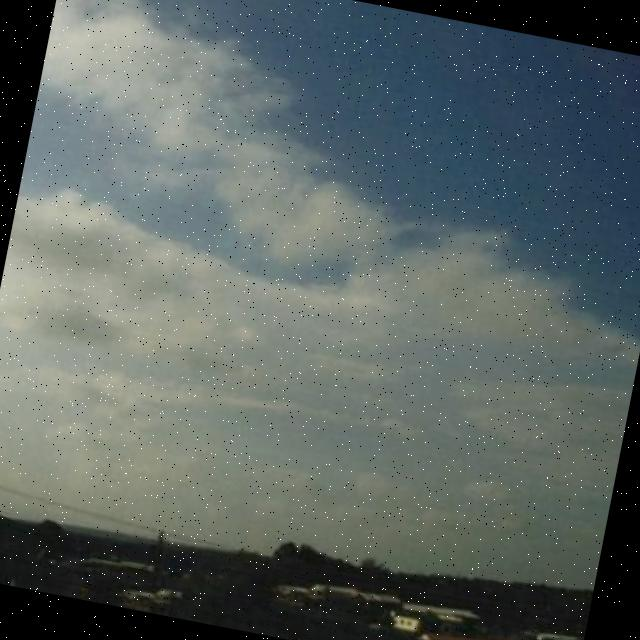St: (1, 134, 640, 540)
